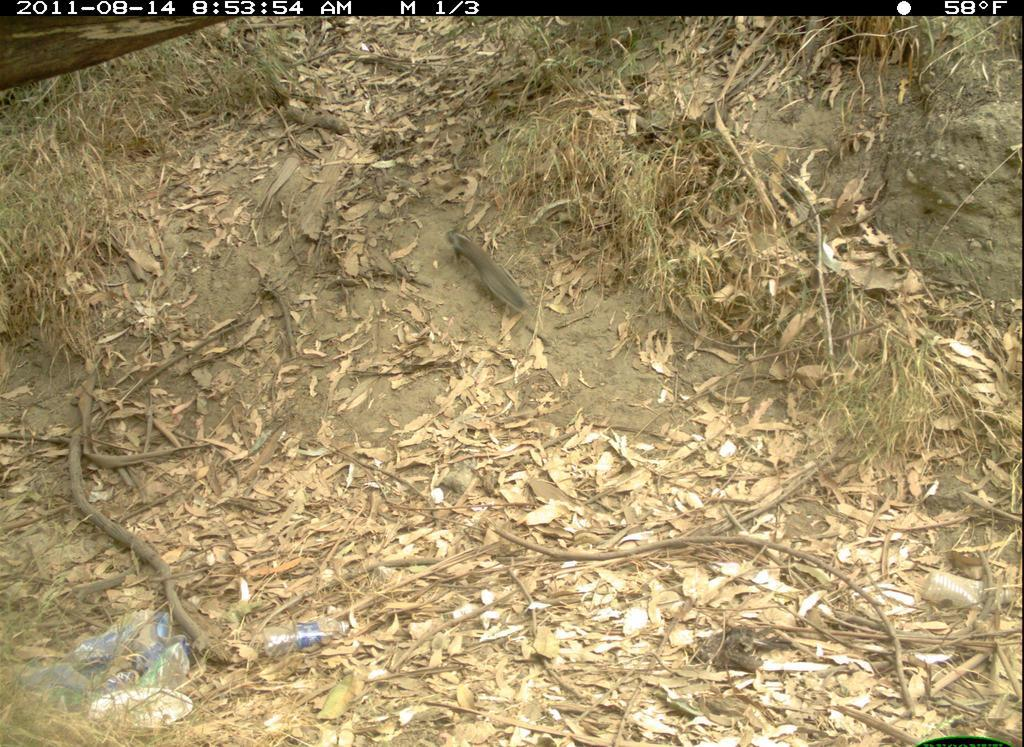squirrel: (434, 222, 543, 323)
